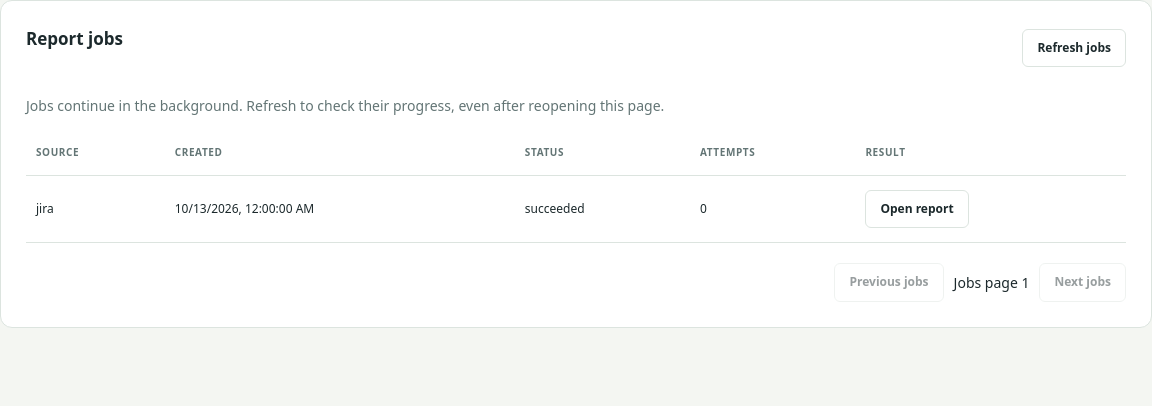
Test case: shows result errors without opening a preview
This screenshot has width=1152, height=406.
Click the button "Open report" at (917, 209), box 865,190 -> 969,228
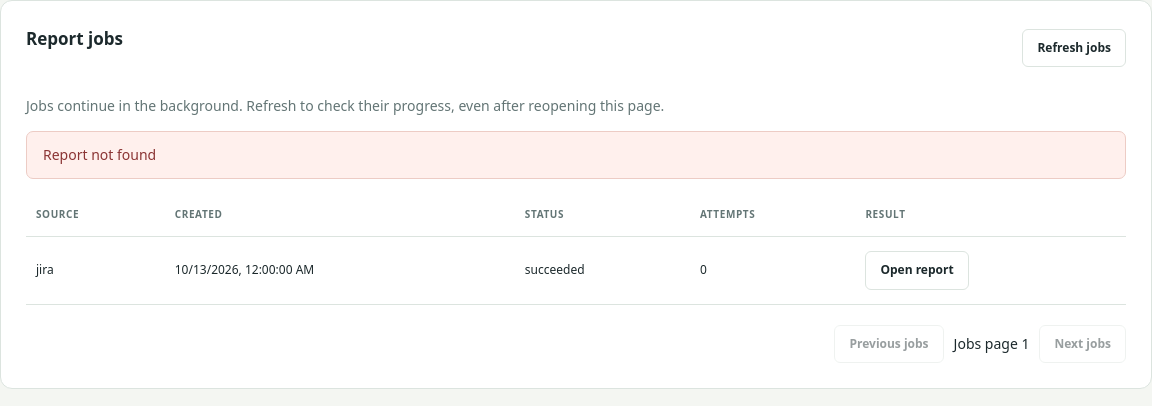
Result: the message reads "Report not found" at 43,145 -> 156,164
